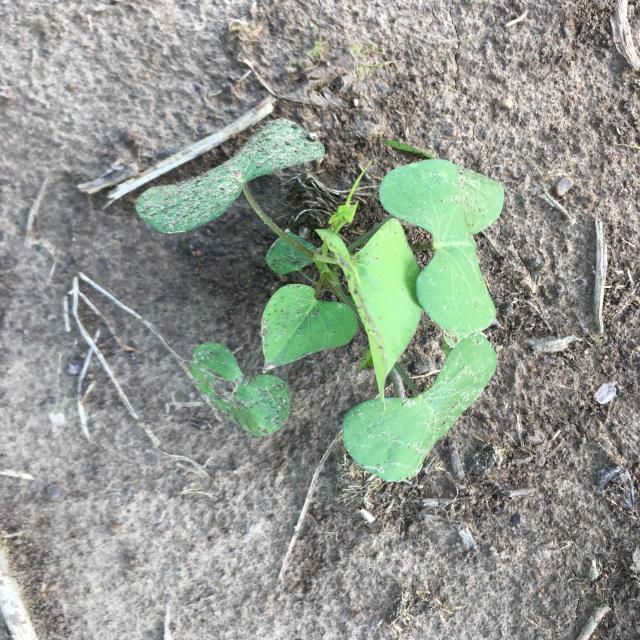MorningGlory: (135, 118, 505, 482)
